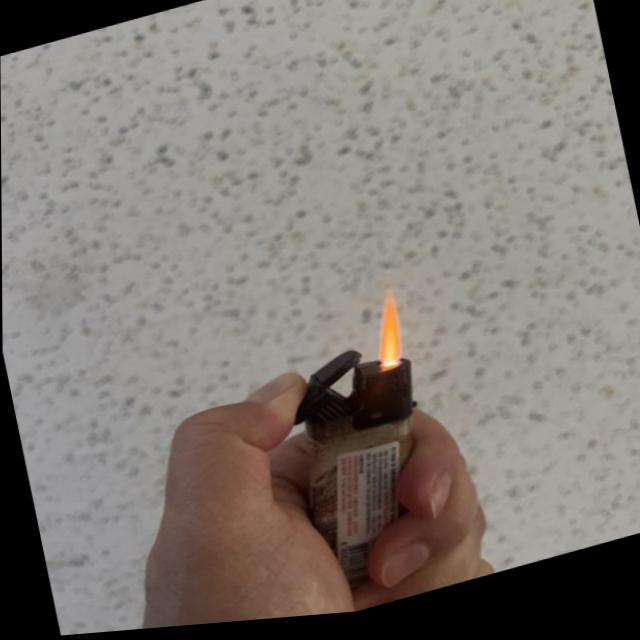Fire: (366, 300, 410, 374)
